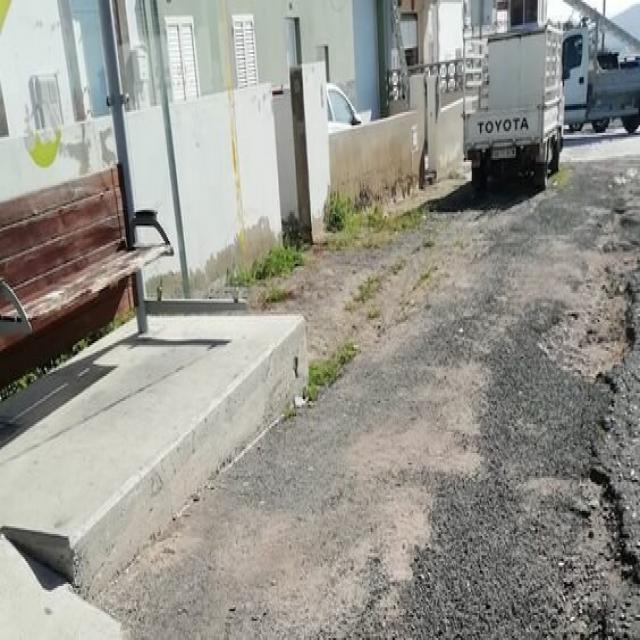Pothole: (529, 226, 640, 566)
